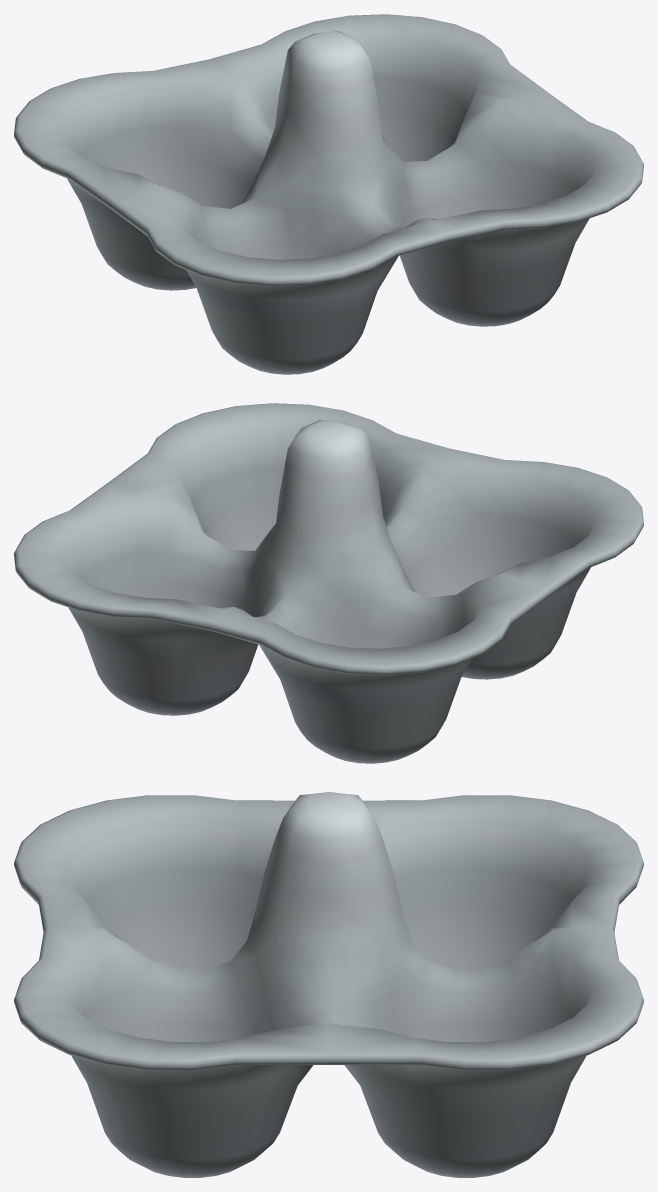
File: EggPack.fbx
The picture shows the model from 3 angles, top to bottom: view 1: azimuth 30°, elevation 25°; view 2: azimuth 150°, elevation 25°; view 3: azimuth 270°, elevation 25°; orthographic projection. The views are drawn at different scales.
Visible parts, largest first — view 1: EGG.001; view 2: EGG.001; view 3: EGG.001.
Part boxes in pixels (left/top/right/bottom): EGG.001: left=14, top=14, right=643, bottom=374; EGG.001: left=14, top=403, right=643, bottom=763; EGG.001: left=14, top=792, right=643, bottom=1177.
Bounding box in the file's own units: 0.6044 × 0.3106 × 0.6019.
